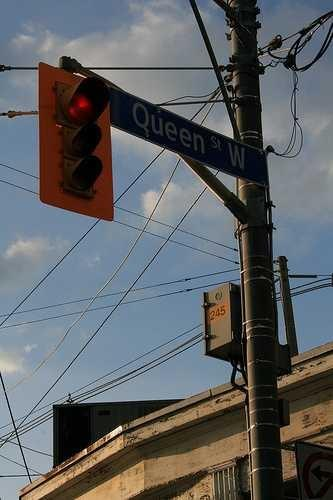red: (42, 60, 116, 214), (62, 73, 112, 124)
